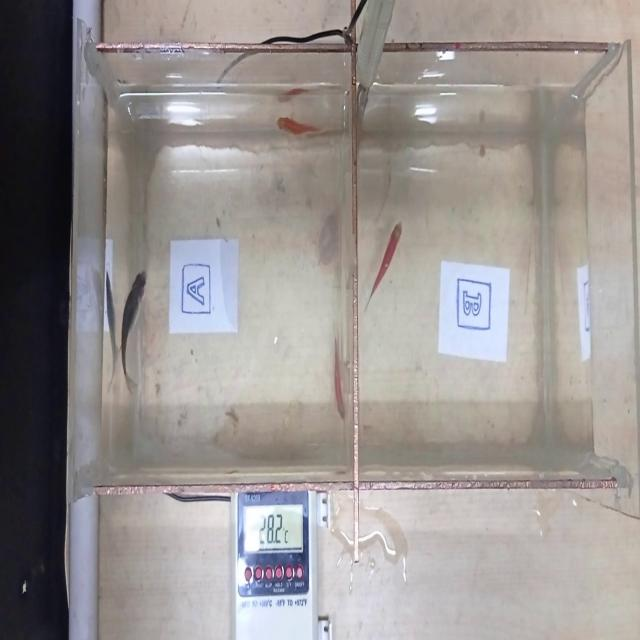Fish A1: (116, 247, 158, 410)
Fish A2: (276, 107, 340, 163)
Fish A3: (326, 319, 347, 437)
Fish B: (364, 207, 408, 325)
